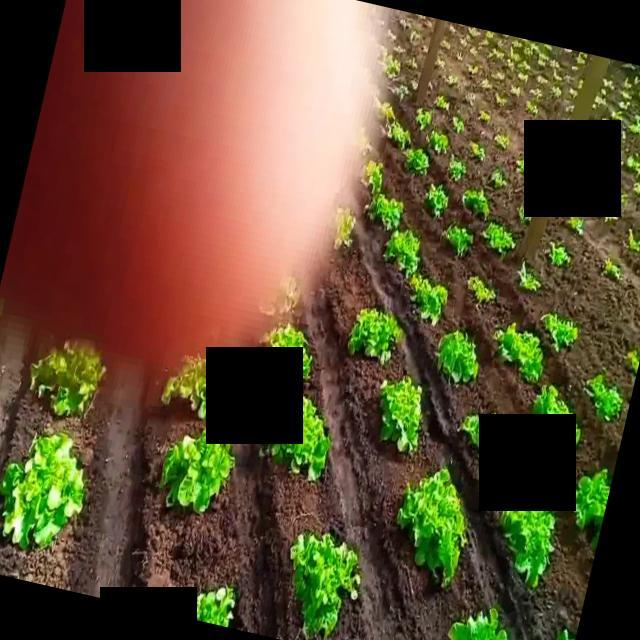Lettuce: (0, 428, 90, 554), (394, 466, 468, 584), (286, 524, 362, 638), (157, 431, 235, 517), (30, 341, 111, 419), (270, 394, 330, 483), (500, 509, 556, 586), (377, 374, 425, 454), (532, 382, 582, 448), (347, 306, 403, 364), (260, 323, 313, 384), (495, 323, 544, 384), (164, 353, 208, 417), (571, 469, 614, 534), (193, 582, 238, 634), (407, 272, 449, 327), (254, 269, 300, 317), (437, 330, 478, 382), (585, 371, 626, 422), (446, 608, 511, 640), (383, 229, 422, 273), (540, 312, 580, 349), (328, 205, 357, 249), (368, 193, 402, 230), (456, 410, 486, 448), (463, 274, 496, 306), (461, 186, 492, 220), (424, 180, 451, 218), (442, 224, 474, 256), (515, 259, 543, 293), (482, 223, 516, 251), (403, 145, 431, 178), (548, 239, 574, 267), (385, 120, 410, 148), (427, 130, 450, 156), (448, 155, 468, 182), (416, 106, 432, 130)
